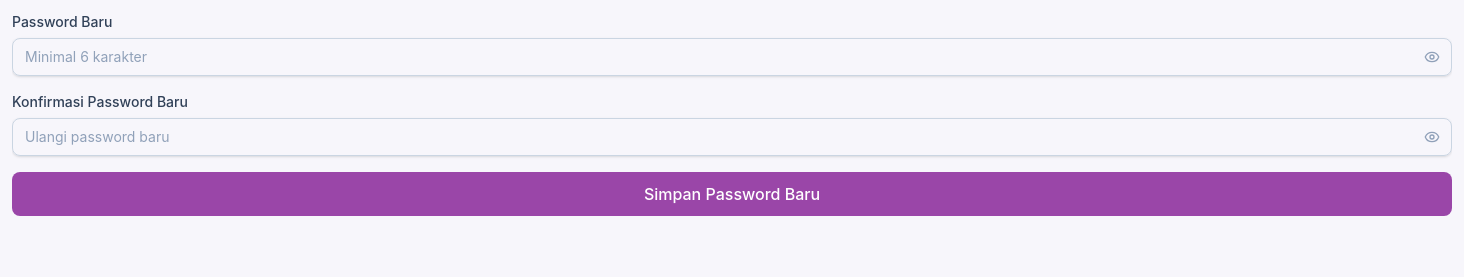
ResetPasswordForm › menolak password baru di bawah 6 karakter
Type "abc" into the password field labelled "Password Baru" at (732, 57), box 12,38 -> 1452,76
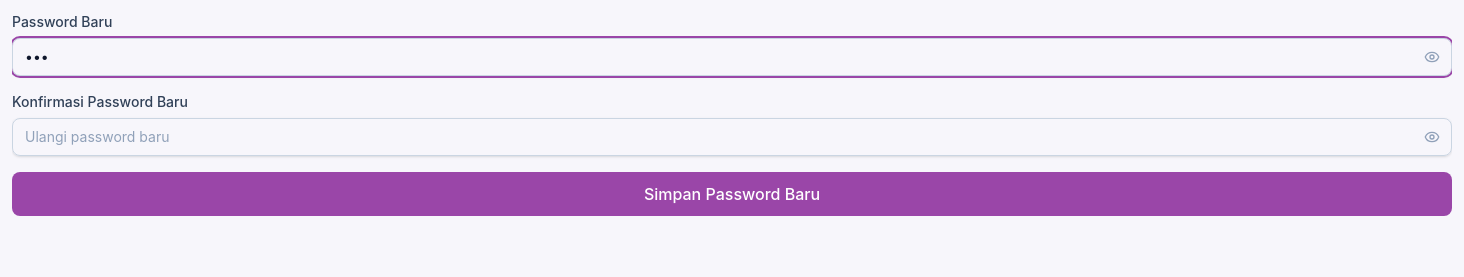
Click the button "Simpan Password Baru" at (732, 194), box 12,172 -> 1452,216
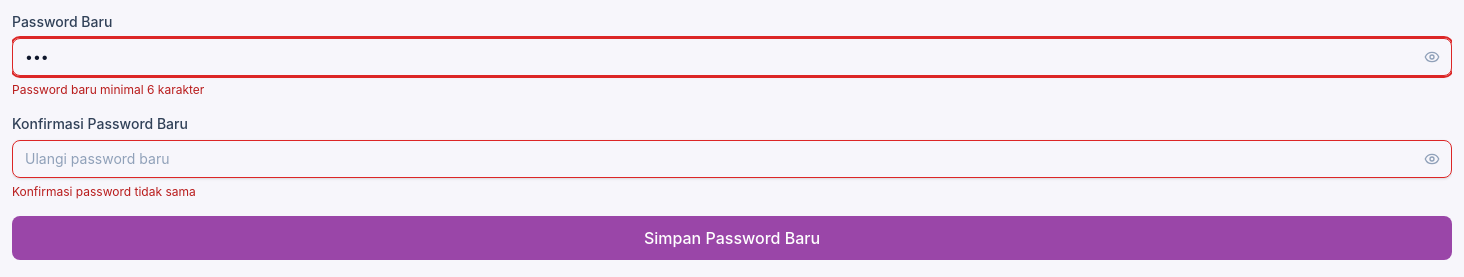
Result: the text "Password baru minimal 6 karakter" is shown at 12,82 -> 204,97
